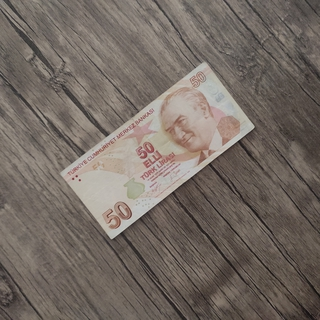50TLFront: (57, 60, 255, 240)
